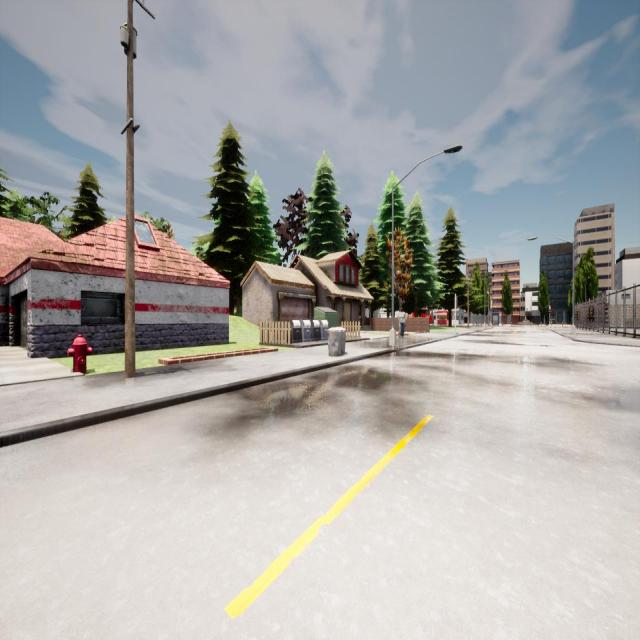Pedestrian: (398, 307, 406, 337)
traffic_light: (548, 306, 552, 313), (456, 298, 458, 308)
